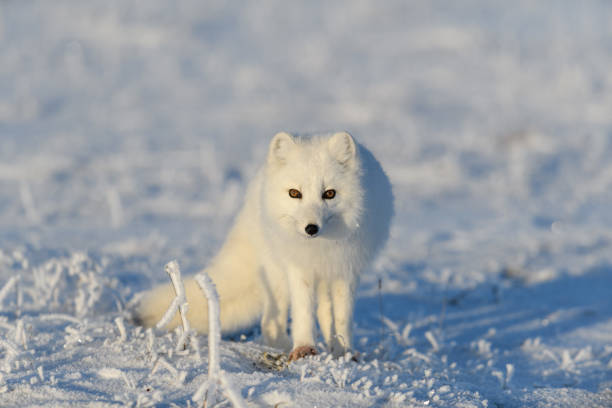arcticfox: (261, 143, 344, 261)
